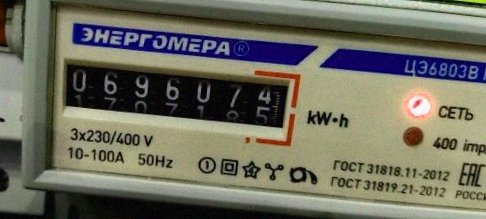0: (69, 65, 89, 92), (194, 76, 213, 104)
4: (256, 82, 273, 104)
5: (254, 104, 270, 124)
6: (99, 68, 120, 94), (163, 73, 182, 101)
7: (225, 81, 243, 108)
9: (131, 71, 151, 99)
screen: (51, 44, 304, 148)
